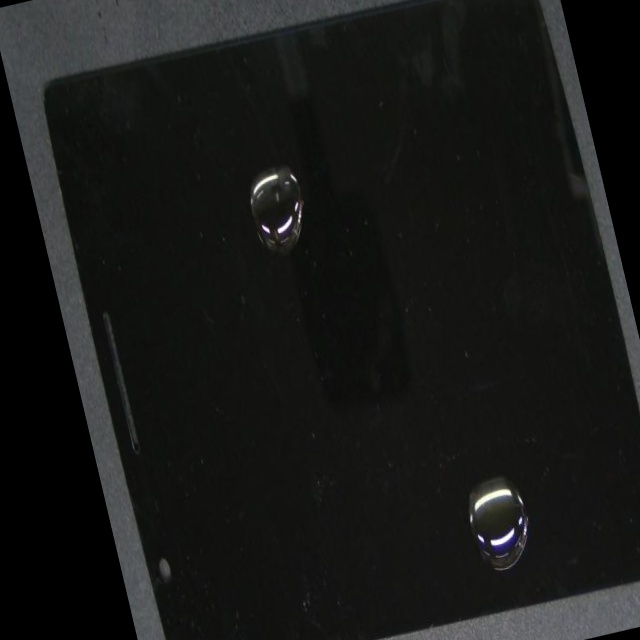oil: (271, 195, 640, 640), (136, 102, 450, 407)
